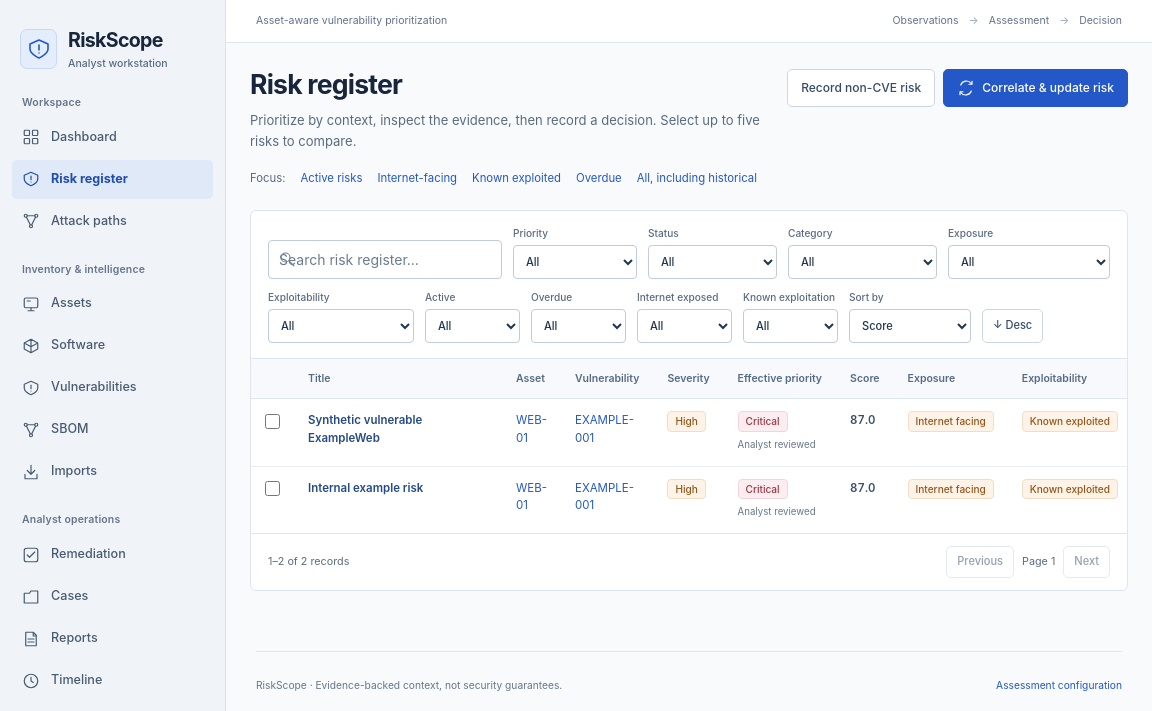
Test: persistent analyst interactions › selects risks and uses the comparison API route
Step 1. Click the checkbox named "Compare risk #1" → (272, 421), box [265,414,280,429]
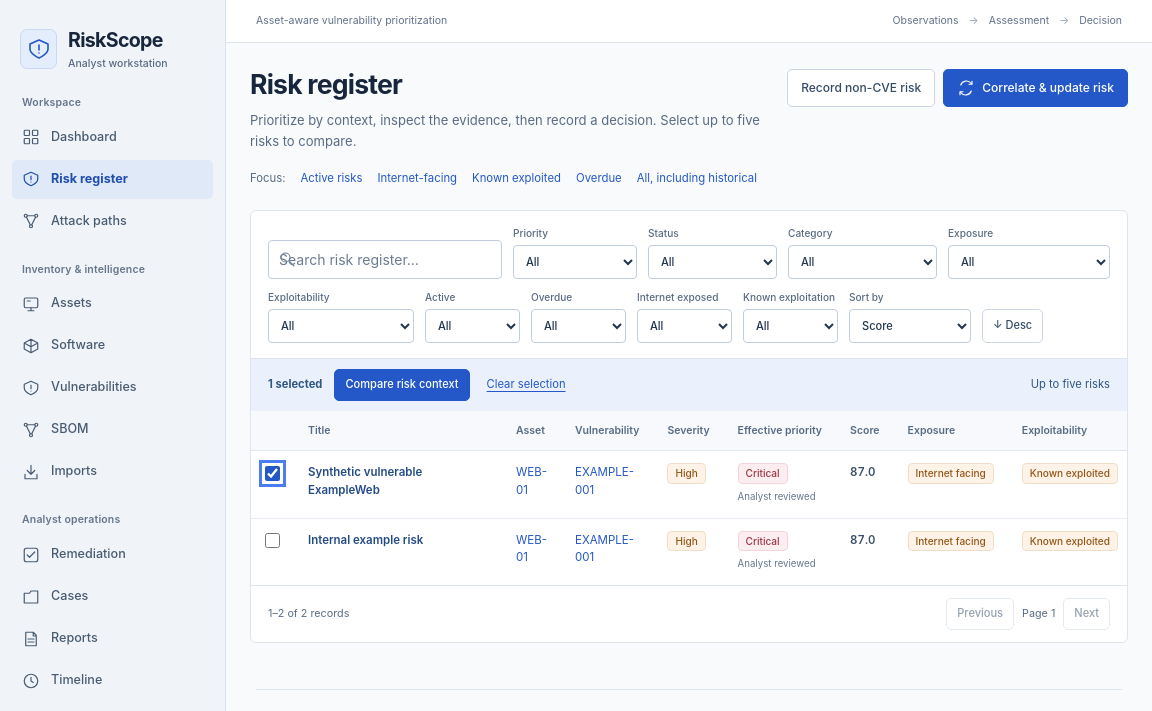
Step 2. Click the checkbox named "Compare risk #2" → (272, 540), box [265,533,280,548]
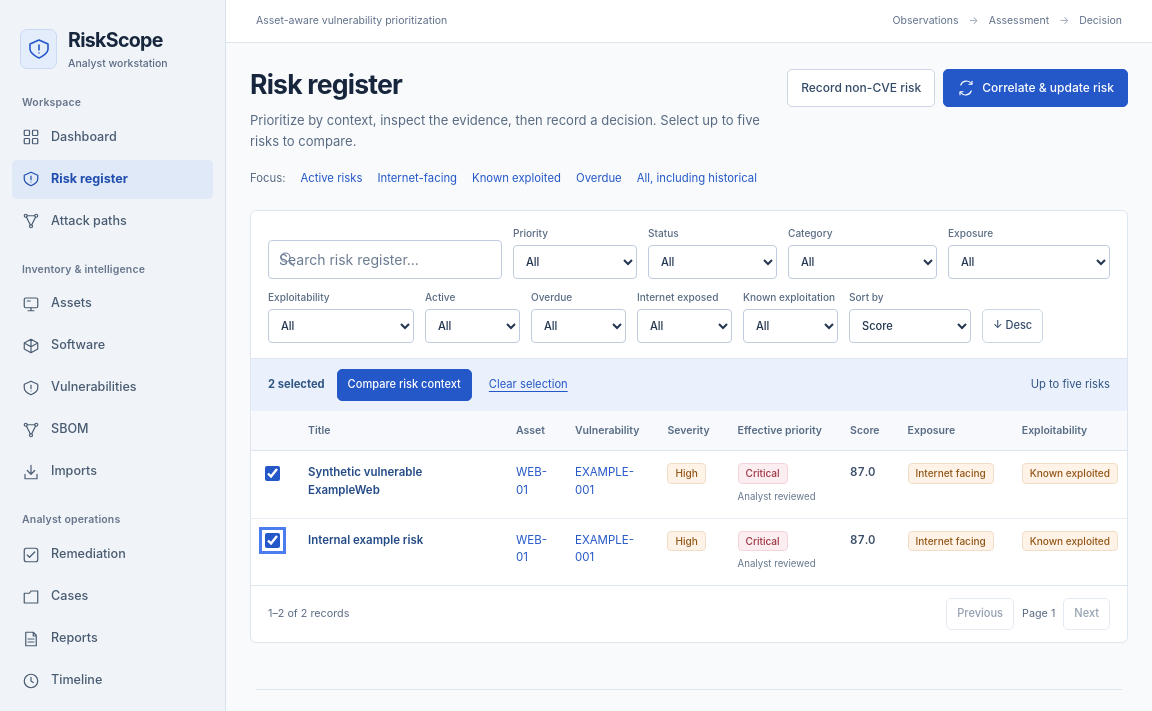
Step 3. Click the link "Compare risk context" → (404, 385), box [337,369,472,401]
(page scrolled)
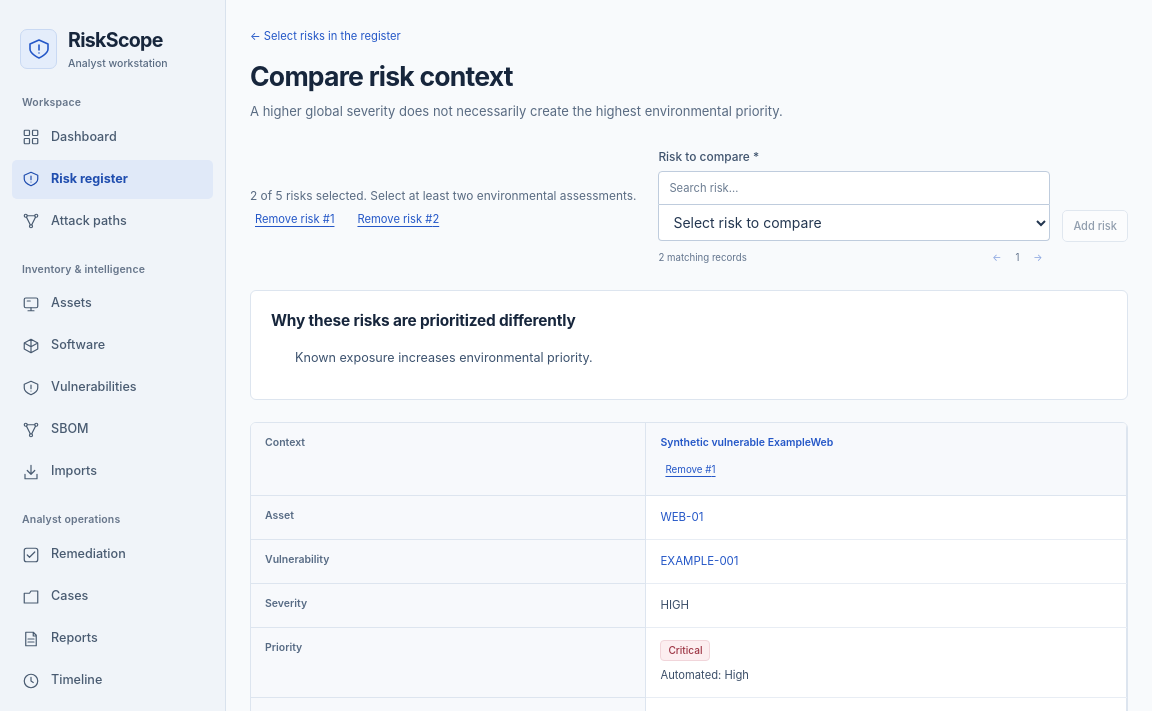
Result: the list item "Known exposure increases environmental priority." is shown at [295,350,593,366]
